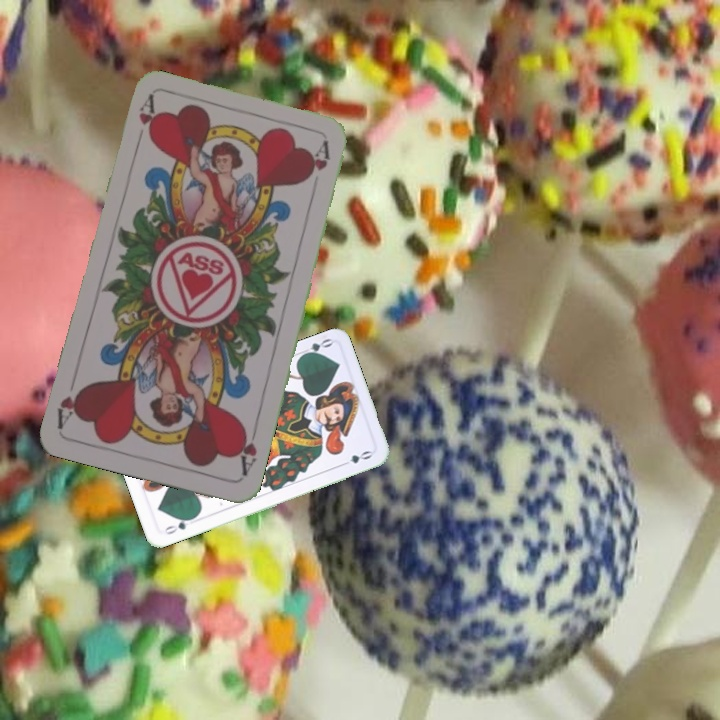GO: (295, 334, 335, 360), (160, 513, 197, 537)
HA: (232, 421, 261, 479), (131, 93, 159, 151)
